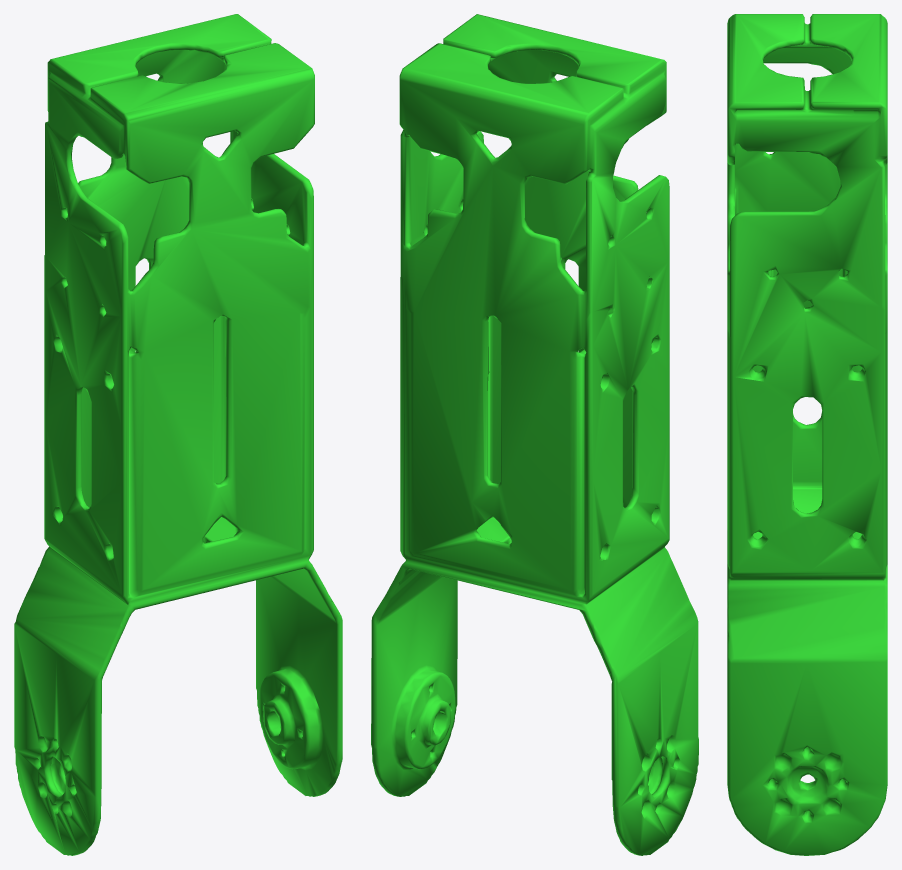
The model's file is CenterArm.fbx.
3 views of the same model, side by side, from view 1: azimuth 30°, elevation 25°; view 2: azimuth 150°, elevation 25°; view 3: azimuth 270°, elevation 25° (orthographic). The views are drawn at different scales.
Visible parts, largest first — view 1: link3; view 2: link3; view 3: link3.
Part boxes in pixels (x1,y1,x2,y2): link3: (14,14,342,855); link3: (371,14,698,855); link3: (727,14,887,855).
Size of the model in its own units: 24.9 by 72.46 by 14.24.
